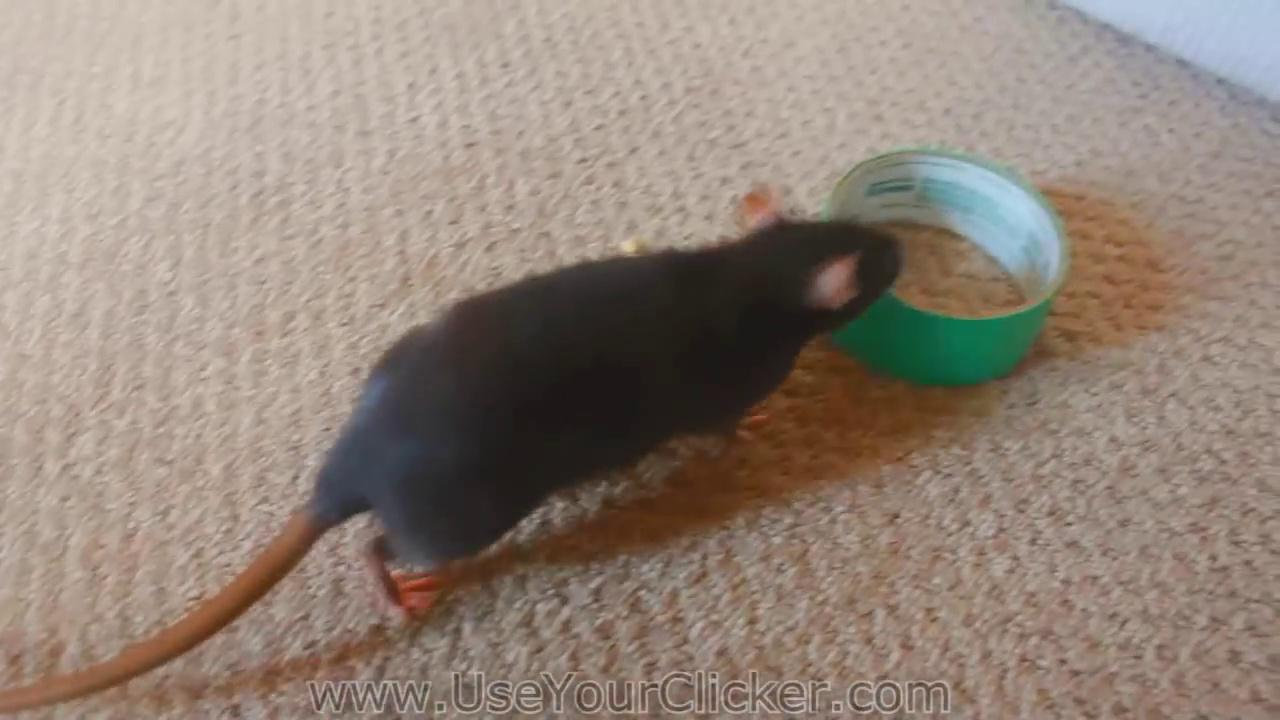rat: (0, 186, 906, 713)
